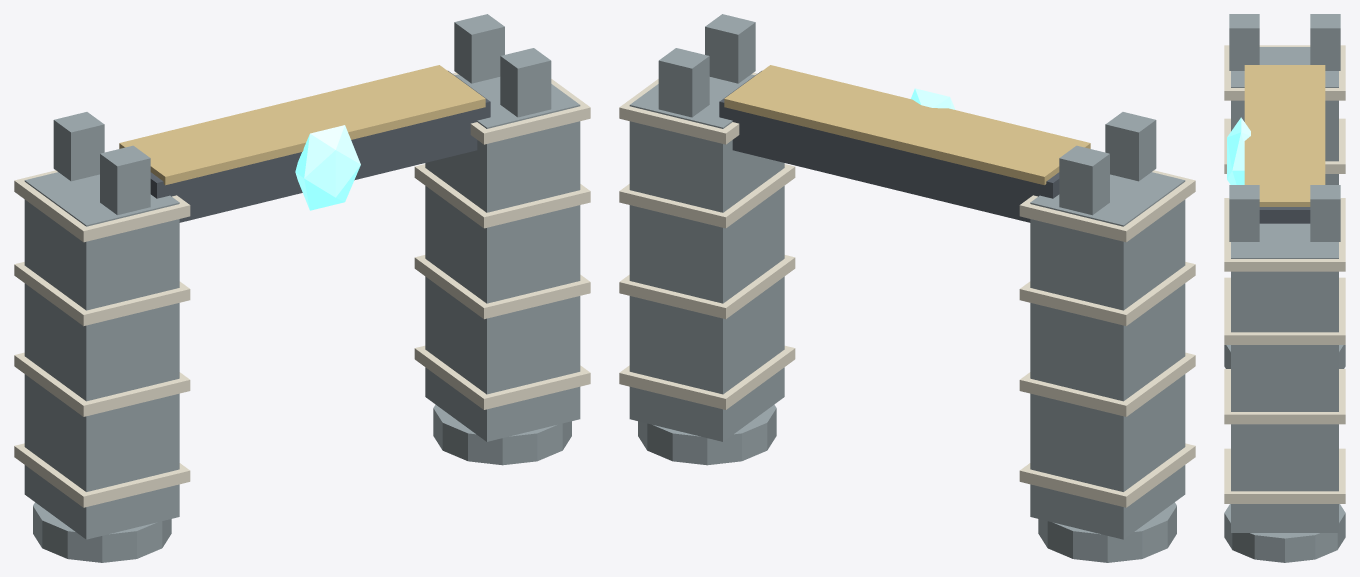
Rendered from arche_du_port.glb.
3 renders of one model, left to right at view 1: azimuth 30°, elevation 25°; view 2: azimuth 150°, elevation 25°; view 3: azimuth 270°, elevation 25°, orthographic. The views are drawn at different scales.
Visible parts, largest first — view 1: static_stone, static_ivory, static_brass, static_dark, static_glow; view 2: static_stone, static_ivory, static_brass, static_dark; view 3: static_stone, static_ivory, static_brass, static_glow, static_dark.
Part boxes in pixels (x1,y1,x2,y2): static_stone: [24, 14, 580, 562]; static_ivory: [14, 72, 590, 507]; static_brass: [119, 65, 485, 185]; static_dark: [150, 71, 490, 222]; static_glow: [295, 125, 360, 210]; static_stone: [629, 14, 1185, 562]; static_ivory: [619, 72, 1195, 507]; static_brass: [724, 65, 1090, 185]; static_dark: [719, 71, 1059, 222]; static_stone: [1224, 14, 1345, 562]; static_ivory: [1224, 45, 1345, 503]; static_brass: [1244, 65, 1325, 206]; static_glow: [1227, 117, 1250, 184]; static_dark: [1259, 207, 1310, 223].
Size of the model in its own units: 7.8 by 5.65 by 1.8.
